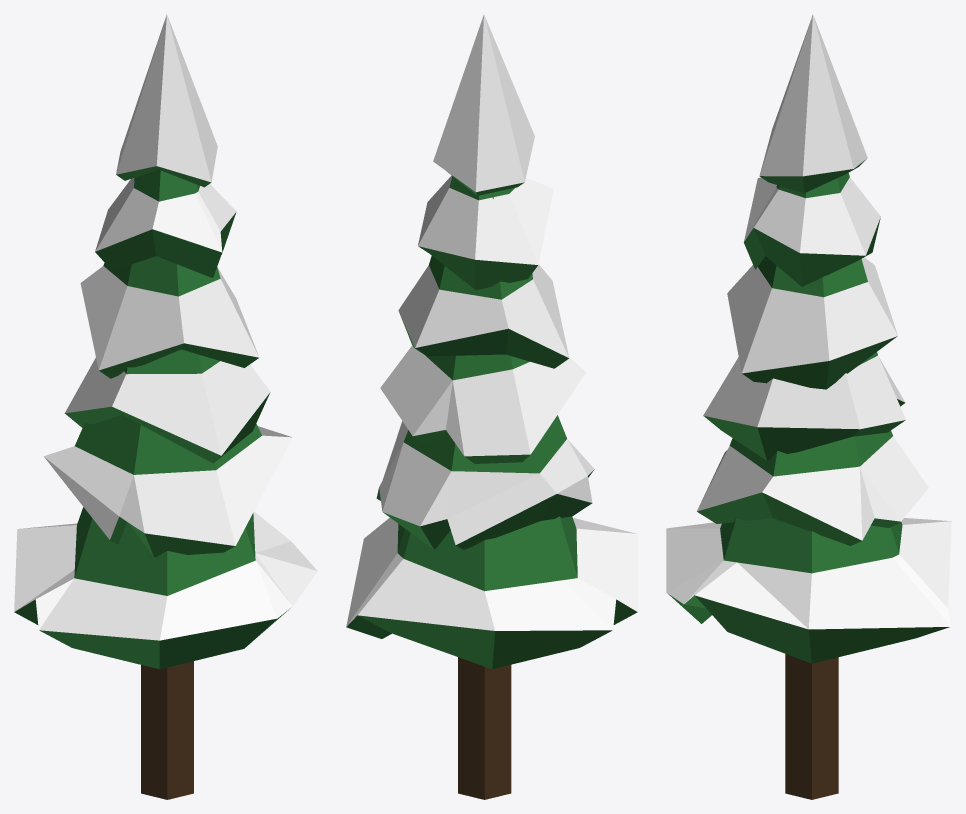
Rendered from Model_Frost_1x1A.fbx.
The picture shows the model from 3 angles, left to right: view 1: azimuth 30°, elevation 25°; view 2: azimuth 150°, elevation 25°; view 3: azimuth 270°, elevation 25°; orthographic projection.
Parts seen in each view (by area): view 1: xueshan_1shu_1_1; view 2: xueshan_1shu_1_1; view 3: xueshan_1shu_1_1.
Part boxes in pixels (x1=…): xueshan_1shu_1_1: x1=14, y1=14, x2=317, y2=799; xueshan_1shu_1_1: x1=346, y1=14, x2=637, y2=799; xueshan_1shu_1_1: x1=666, y1=14, x2=951, y2=799.
Size of the model in its own units: 196 by 549 by 184.
1 material, 1 textured.
